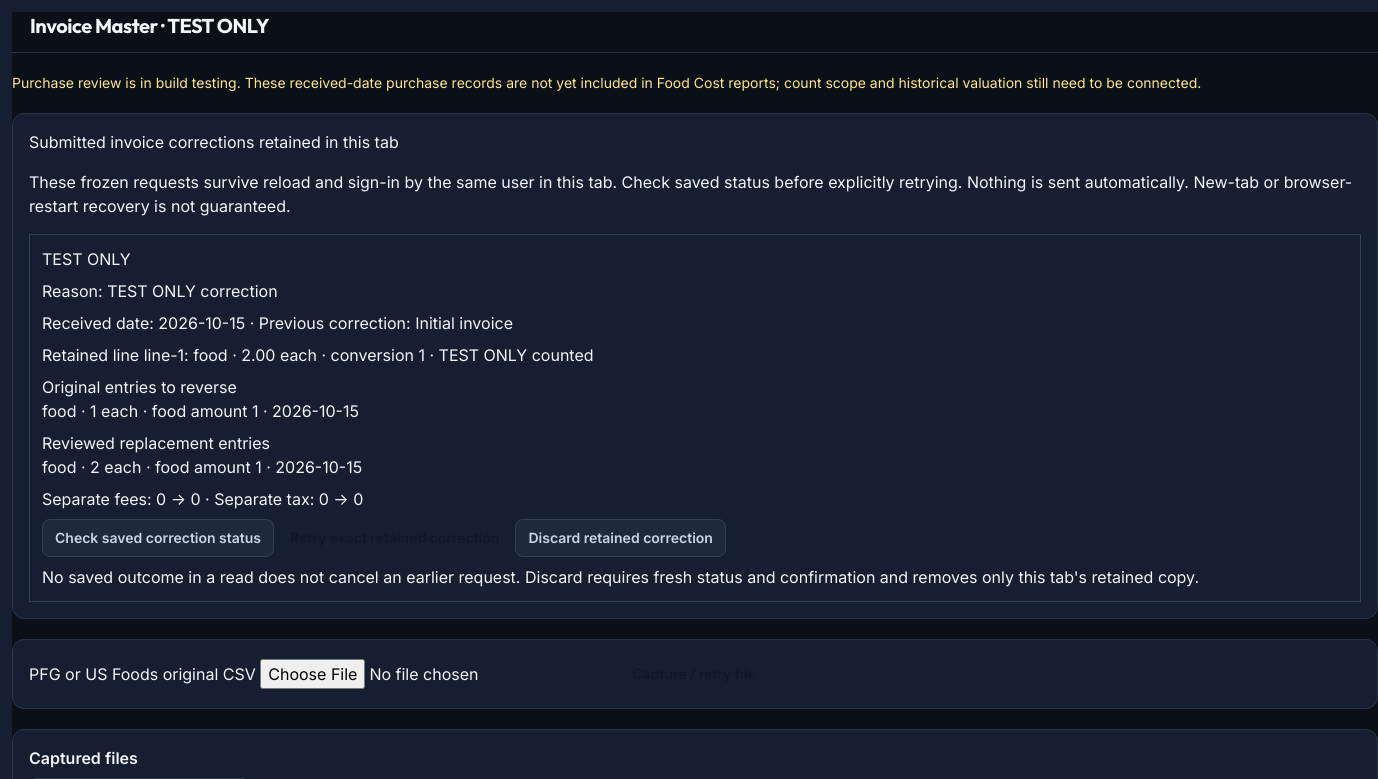
Test: a failed fresh read removes earlier retry permission and retains the request
Click the button "Check saved correction status". click: (158, 538)
box: [42,519,274,557]
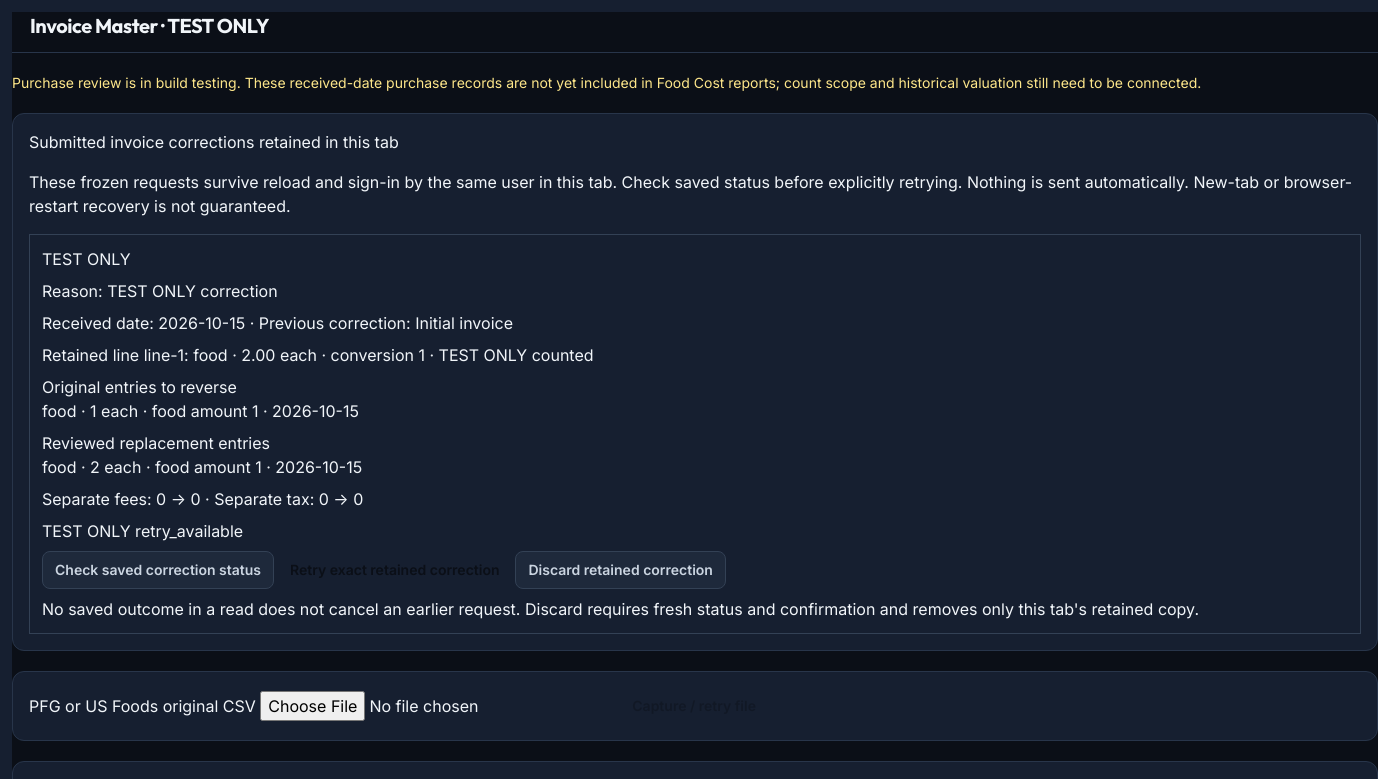
Now the button "Retry exact retained correction" is enabled, box [274,552,516,588]
Click the button "Check saved correction status". click: (158, 570)
box: [42,551,274,589]
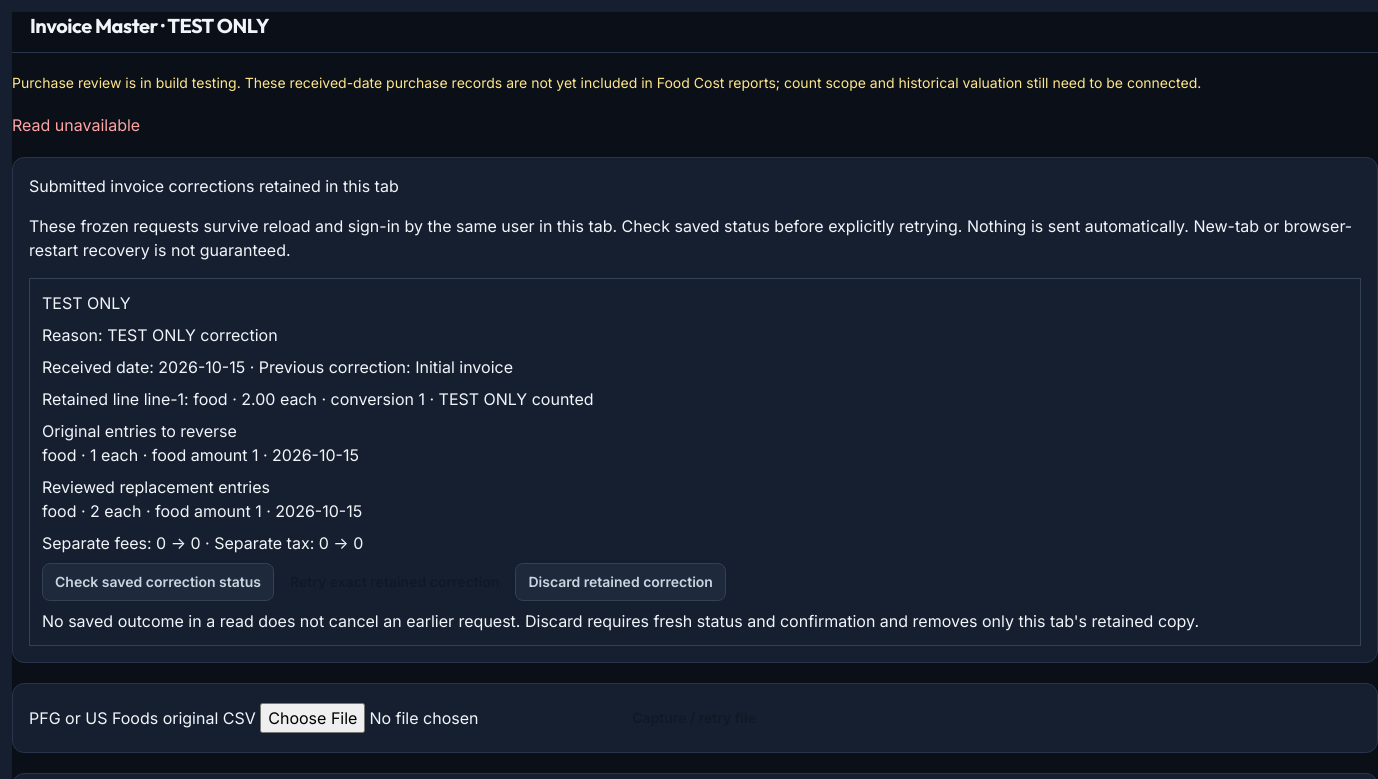
Now the button "Retry exact retained correction" is disabled, box [274,564,516,600]
